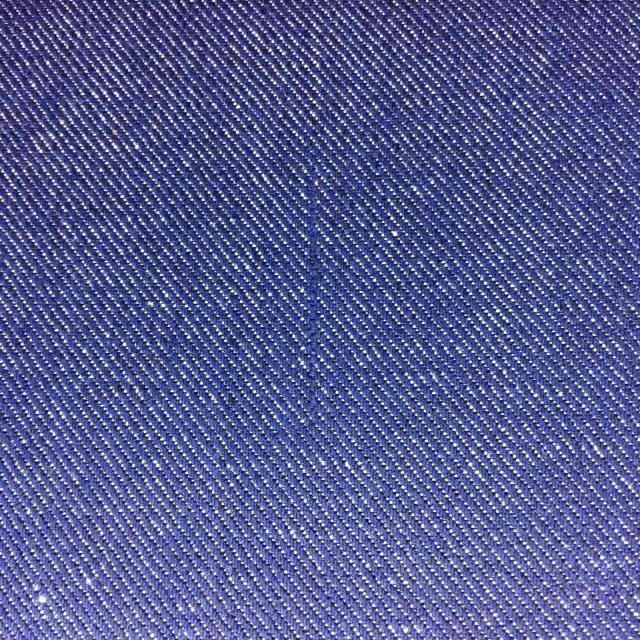Line: (300, 156, 327, 409)
